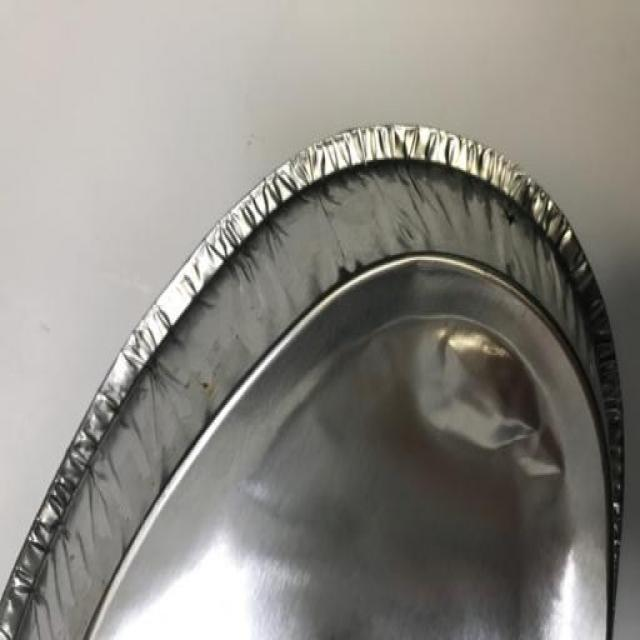metel: (3, 72, 640, 640)
